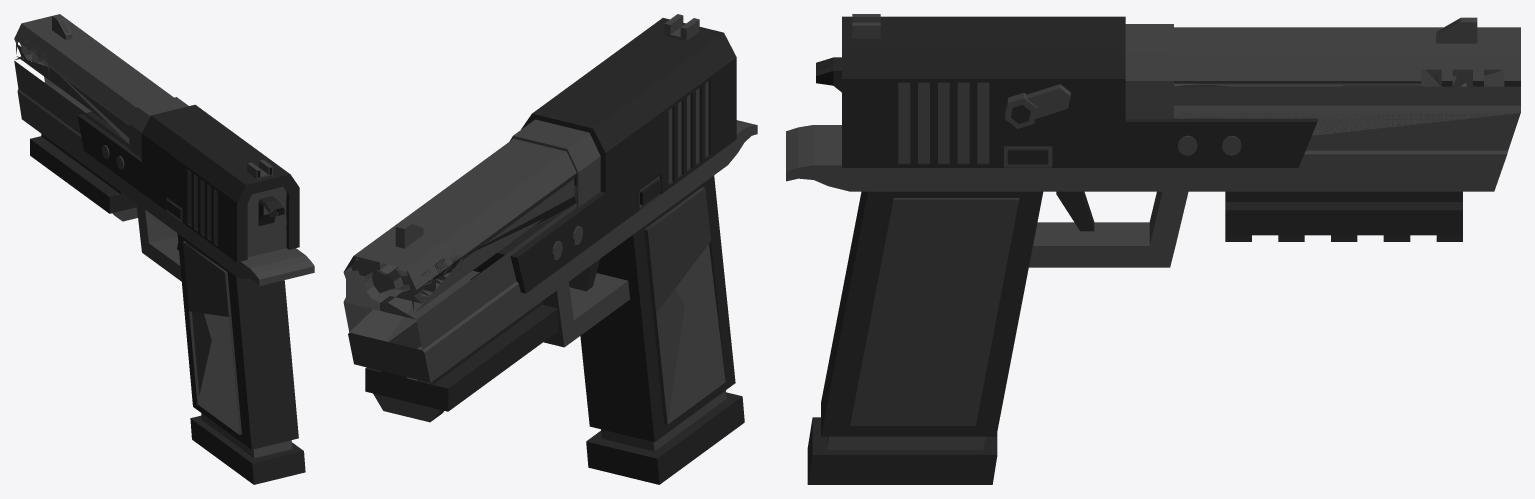
File: pistol-named-nodes.glb
3 renders of one model, left to right at view 1: azimuth 30°, elevation 25°; view 2: azimuth 150°, elevation 25°; view 3: azimuth 270°, elevation 25°, orthographic. The views are drawn at different scales.
Visible parts, largest first — view 1: IWI/MRI Deagle, IWI/MRI Deagle slide, IWI/MRI Deagle Mag; view 2: IWI/MRI Deagle, IWI/MRI Deagle slide, IWI/MRI Deagle Mag; view 3: IWI/MRI Deagle, IWI/MRI Deagle slide, IWI/MRI Deagle Mag.
Part boxes in pixels (x1,y1,x2,y2): IWI/MRI Deagle: (14, 14, 314, 449); IWI/MRI Deagle slide: (77, 104, 299, 262); IWI/MRI Deagle Mag: (186, 242, 305, 484); IWI/MRI Deagle: (343, 119, 757, 442); IWI/MRI Deagle slide: (470, 14, 736, 293); IWI/MRI Deagle Mag: (586, 189, 744, 484); IWI/MRI Deagle: (786, 17, 1520, 436); IWI/MRI Deagle slide: (842, 14, 1317, 167); IWI/MRI Deagle Mag: (807, 417, 997, 484).
Size of the model in its own units: 0.1281 by 0.5021 by 0.7489.
Materials: 1 (1 with a texture image).
